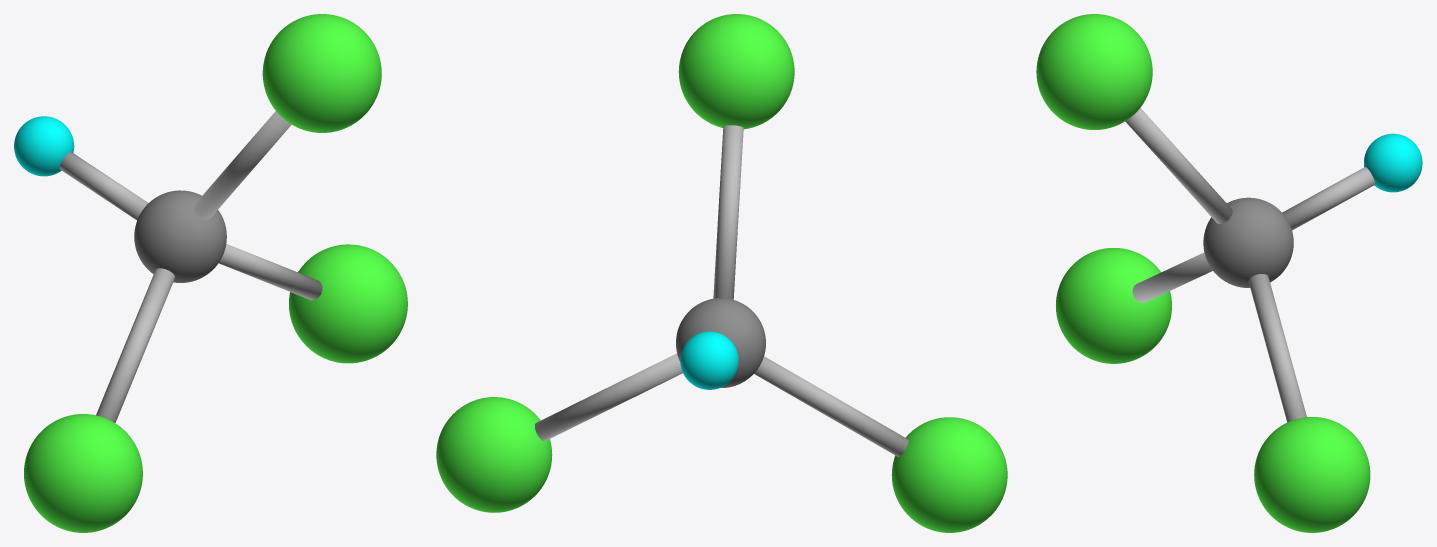
The model's file is chloroform.glb.
3 renders of one model, left to right at view 1: azimuth 30°, elevation 25°; view 2: azimuth 150°, elevation 25°; view 3: azimuth 270°, elevation 25°, orthographic. The views are drawn at different scales.
Parts seen in each view (by area): view 1: CMAtom_0; view 2: CMAtom_0; view 3: CMAtom_0.
Boxes of the visible parts, x1,y1,x2,y2 form: CMAtom_0: (14, 14, 407, 532); CMAtom_0: (436, 14, 1007, 532); CMAtom_0: (1036, 14, 1422, 532).
Bounding box in the file's own units: 0.3607 × 0.337 × 0.2631.
